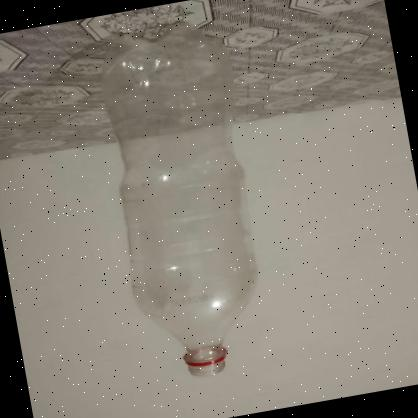bottle: (86, 15, 286, 389)
